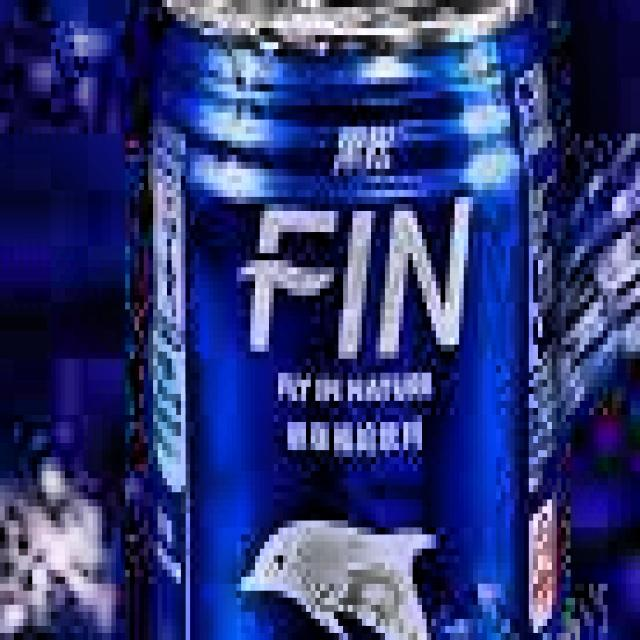metal: (130, 0, 575, 640)
